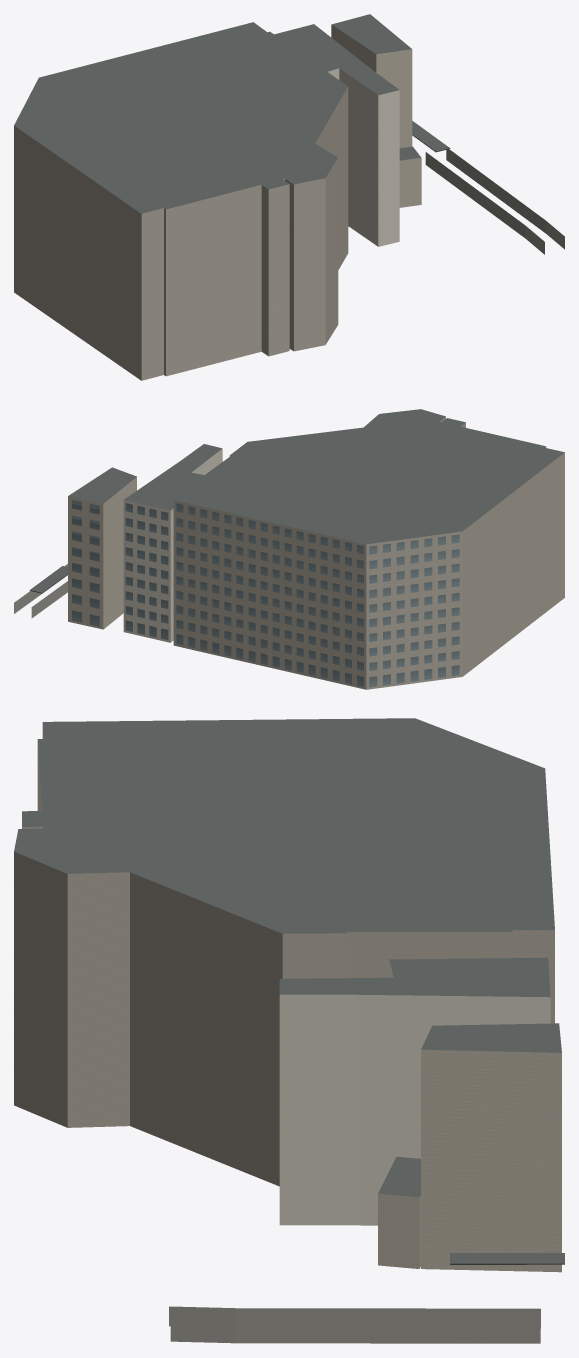
3 renders of one model, top to bottom at view 1: azimuth 30°, elevation 25°; view 2: azimuth 150°, elevation 25°; view 3: azimuth 270°, elevation 25°, orthographic. The views are drawn at different scales.
Visible parts, largest first — view 1: cell-e009-s001_base_tile-wall, cell-e009-s001_base_roof, cell-e009-s001_base_plaster, cell-e009-s001_base_stone, cell-e009-s001_base_granite; view 2: cell-e009-s001_base_tile-wall, cell-e009-s001_base_roof, cell-e009-s001_base_glass, cell-e009-s001_base_stone, cell-e009-s001_base_plaster, cell-e009-s001_base_granite, cell-e009-s001_base_Canopy_roof; view 3: cell-e009-s001_base_roof, cell-e009-s001_base_tile-wall, cell-e009-s001_base_plaster, cell-e009-s001_base_stone, cell-e009-s001_base_granite, cell-e009-s001_base_Canopy_roof.
Part boxes in pixels (<box>): cell-e009-s001_base_tile-wall: <box>14,87,348,380</box>; cell-e009-s001_base_roof: <box>14,14,420,213</box>; cell-e009-s001_base_plaster: <box>328,68,399,246</box>; cell-e009-s001_base_stone: <box>331,24,421,207</box>; cell-e009-s001_base_granite: <box>425,149,564,254</box>; cell-e009-s001_base_tile-wall: <box>173,417,564,689</box>; cell-e009-s001_base_roof: <box>68,409,564,544</box>; cell-e009-s001_base_glass: <box>72,500,459,687</box>; cell-e009-s001_base_stone: <box>68,477,136,629</box>; cell-e009-s001_base_plaster: <box>123,448,222,642</box>; cell-e009-s001_base_granite: <box>14,564,67,618</box>; cell-e009-s001_base_Canopy_roof: <box>30,566,67,592</box>; cell-e009-s001_base_roof: <box>14,718,561,1197</box>; cell-e009-s001_base_tile-wall: <box>14,725,554,1186</box>; cell-e009-s001_base_plaster: <box>279,960,550,1225</box>; cell-e009-s001_base_stone: <box>378,1049,561,1272</box>; cell-e009-s001_base_granite: <box>169,1306,540,1343</box>; cell-e009-s001_base_Canopy_roof: <box>450,1253,564,1263</box>.
Size of the model in its own units: 92.87 by 33.79 by 61.55.
Materials: 7 (5 with a texture image).
